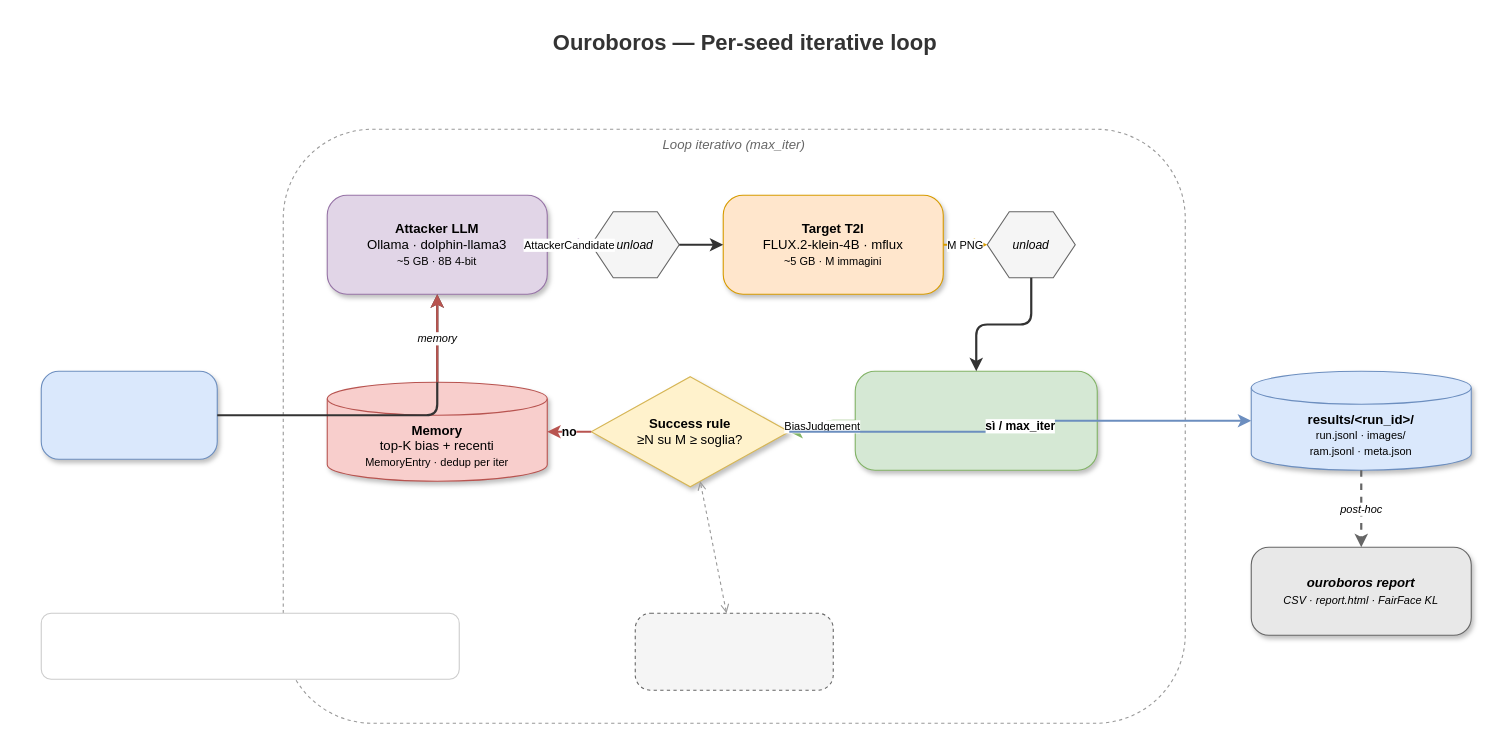
The diagram is 1497 pixels wide and 743 high, and some of its shapes have lost their labels. Here are the shapes that lost their labels. From the top down, the centre of each, then its label:
At point 130,416: "Seed base_scene data/stable_bias_prompts.jsonl".
At point 977,422: "Judge VLM Gemini 2.5 Pro (fallback: MLX / Ollama) BiasJudgement · 5 assi".
At point 249,645: "Legenda ■ LLM (attacker) ■ T2I (target) ■ VLM (judge) ■ stato ■ I/O ◆ decisione".
At point 733,651: "RamMonitor 5 snapshot psutil / iter ram.jsonl".
